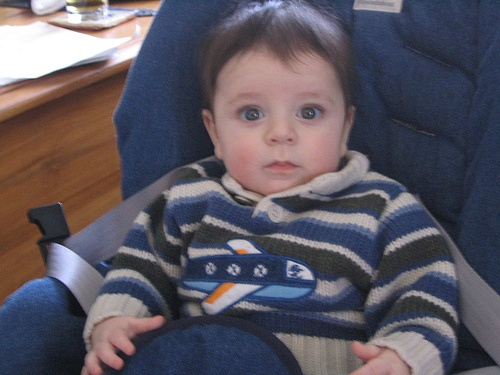head: (200, 1, 359, 201)
person: (52, 1, 452, 375)
